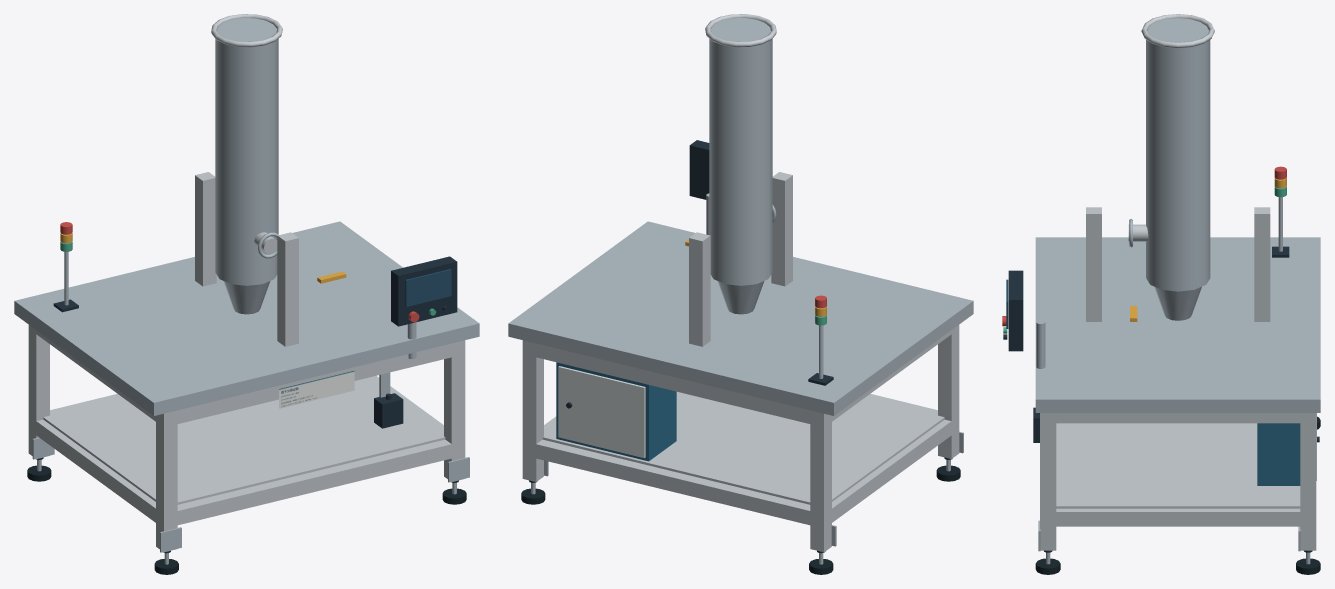
Rendered from ion-exchange-cell.glb.
3 renders of one model, left to right at view 1: azimuth 30°, elevation 25°; view 2: azimuth 150°, elevation 25°; view 3: azimuth 270°, elevation 25°, orthographic. The views are drawn at different scales.
Parts seen in each view (by area): view 1: ClosedMachineBed_28, LowerShelf_29, ProcessShell_50, SlottedExtrusion_22, SlottedExtrusion_23, SlottedExtrusion_8, SlottedExtrusion_24, ConsoleBack_34, SlottedExtrusion_49, SlottedExtrusion_18, SlottedExtrusion_48, SlottedExtrusion_3 (+6 smaller); view 2: ClosedMachineBed_28, LowerShelf_29, ProcessShell_50, BackDoor_31, SlottedExtrusion_20, SlottedExtrusion_21, SlottedExtrusion_3, Cabinet_30, SlottedExtrusion_13, SlottedExtrusion_24, SlottedExtrusion_48, SlottedExtrusion_8 (+5 smaller); view 3: ClosedMachineBed_28, LowerShelf_29, ProcessShell_50, SlottedExtrusion_26, SlottedExtrusion_27, Cabinet_30, SlottedExtrusion_13, SlottedExtrusion_18, SlottedExtrusion_48, SlottedExtrusion_49, ConsoleBack_34, ConeBottom_51 (+2 smaller).
Boxes of the visible parts, bbox=[...] form: ClosedMachineBed_28: bbox=[14, 221, 479, 415]; LowerShelf_29: bbox=[43, 377, 445, 504]; ProcessShell_50: bbox=[215, 18, 278, 285]; SlottedExtrusion_22: bbox=[170, 439, 458, 525]; SlottedExtrusion_23: bbox=[170, 342, 458, 425]; SlottedExtrusion_8: bbox=[156, 410, 177, 552]; SlottedExtrusion_24: bbox=[32, 419, 155, 522]; ConsoleBack_34: bbox=[391, 256, 457, 326]; SlottedExtrusion_49: bbox=[277, 232, 298, 346]; SlottedExtrusion_18: bbox=[444, 340, 465, 481]; SlottedExtrusion_48: bbox=[195, 172, 216, 286]; SlottedExtrusion_3: bbox=[28, 325, 49, 458]; ClosedMachineBed_28: bbox=[508, 221, 973, 415]; LowerShelf_29: bbox=[542, 392, 944, 504]; ProcessShell_50: bbox=[709, 18, 772, 285]; BackDoor_31: bbox=[558, 366, 645, 458]; SlottedExtrusion_20: bbox=[530, 439, 817, 525]; SlottedExtrusion_21: bbox=[529, 342, 817, 425]; SlottedExtrusion_3: bbox=[810, 410, 831, 552]; Cabinet_30: bbox=[556, 362, 676, 461]; SlottedExtrusion_13: bbox=[522, 340, 543, 481]; SlottedExtrusion_24: bbox=[828, 419, 953, 522]; SlottedExtrusion_48: bbox=[689, 232, 710, 346]; SlottedExtrusion_8: bbox=[938, 325, 959, 458]; ClosedMachineBed_28: bbox=[1035, 237, 1320, 412]; LowerShelf_29: bbox=[1056, 423, 1300, 508]; ProcessShell_50: bbox=[1146, 18, 1210, 291]; SlottedExtrusion_26: bbox=[1056, 508, 1300, 526]; SlottedExtrusion_27: bbox=[1048, 413, 1308, 423]; Cabinet_30: bbox=[1257, 423, 1300, 485]; SlottedExtrusion_13: bbox=[1300, 413, 1316, 550]; SlottedExtrusion_18: bbox=[1040, 413, 1056, 550]; SlottedExtrusion_48: bbox=[1254, 207, 1270, 321]; SlottedExtrusion_49: bbox=[1086, 207, 1101, 321]; ConsoleBack_34: bbox=[1008, 270, 1023, 351]; ConeBottom_51: bbox=[1154, 286, 1201, 320].
Size of the model in its own units: 1.55 by 2.09 by 1.29.
11 materials, 1 textured.
